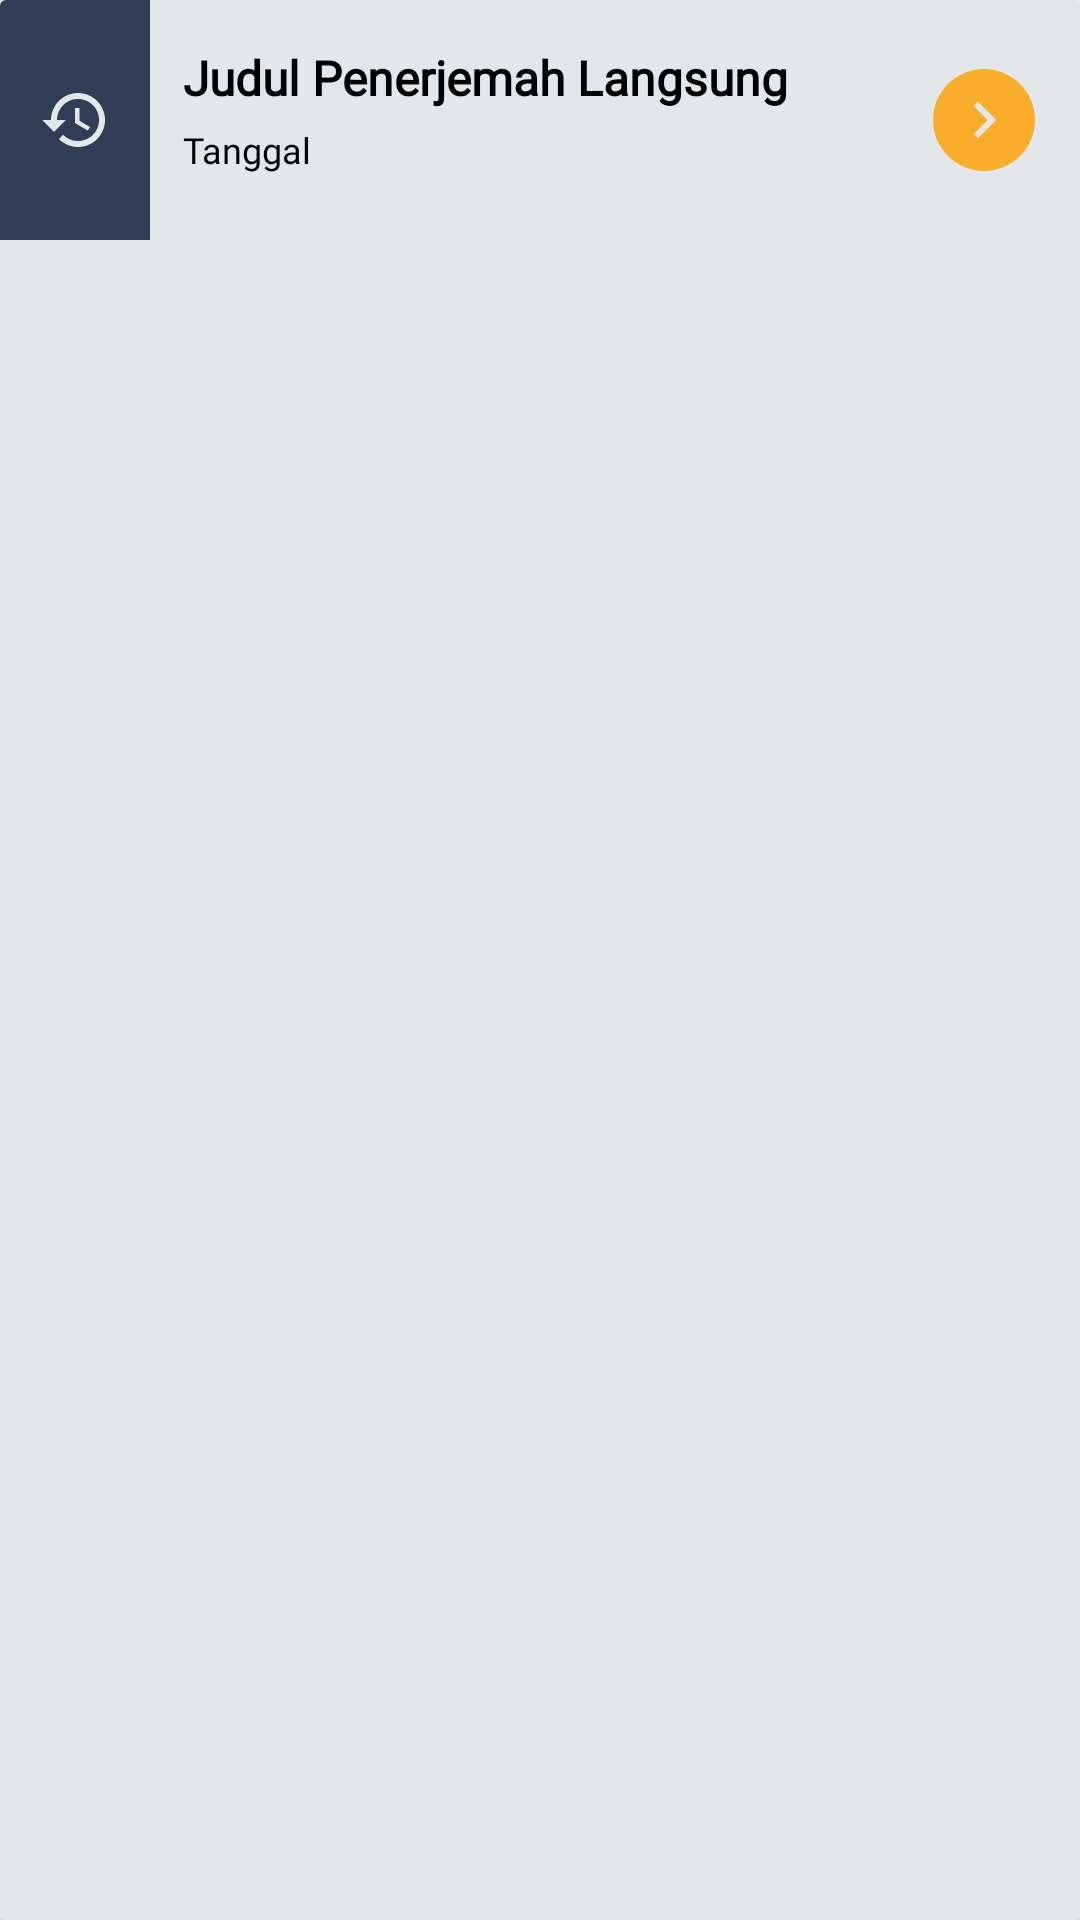

Screen size 1080 × 1920. Icon name, then its center in pixels as (x,y):
arrow right: (984,120)
history: (73,120)
